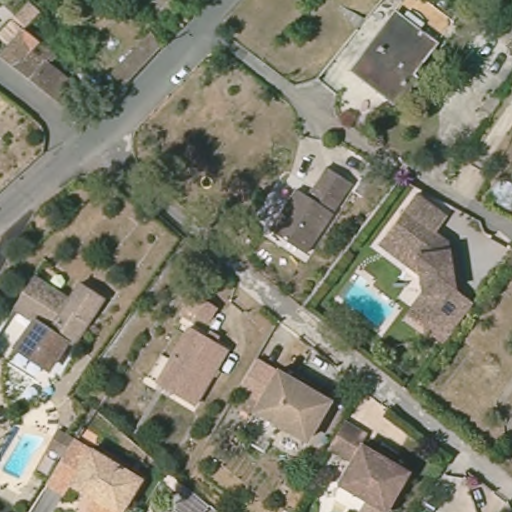pool: (341, 275, 391, 330), (4, 427, 47, 479)
